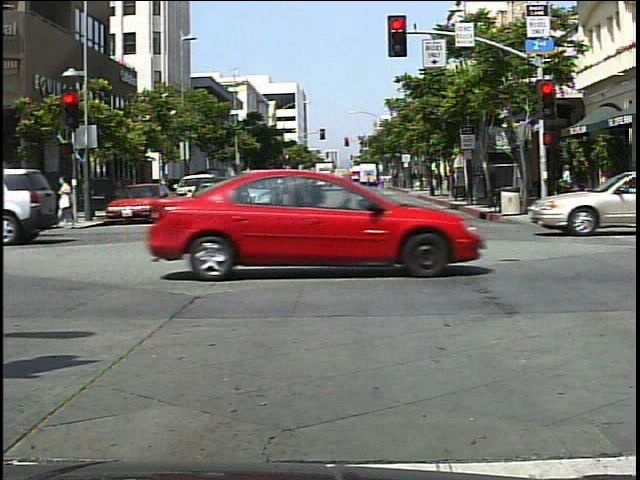person: (53, 171, 84, 235), (556, 162, 579, 195)
